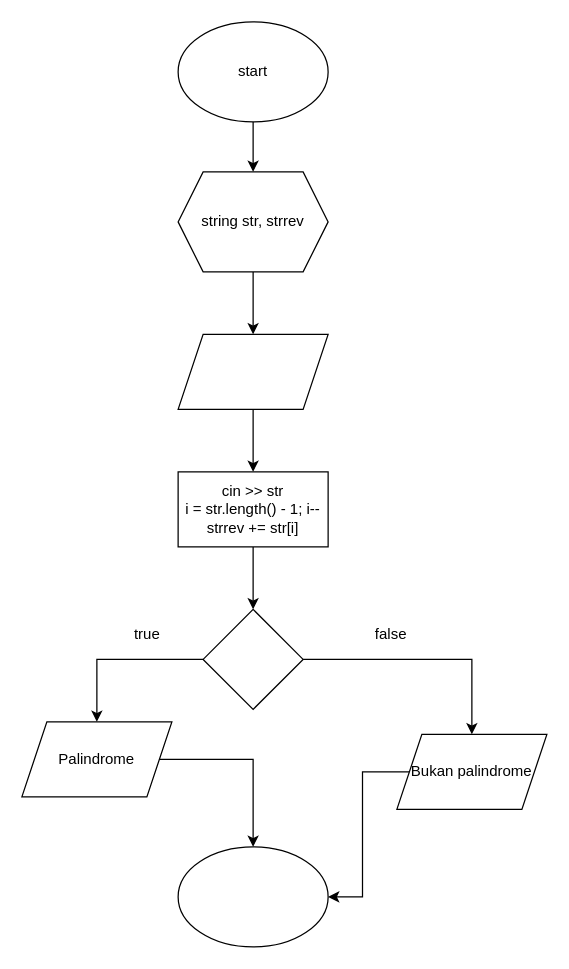
Some shapes in this 569 by 969 pixel diagram are drawn without their labels. Each missing label, with the box of its shape:
finish: (177, 846, 328, 947)
Masukan kata:: (177, 333, 328, 409)
strrev == str: (202, 608, 303, 709)
